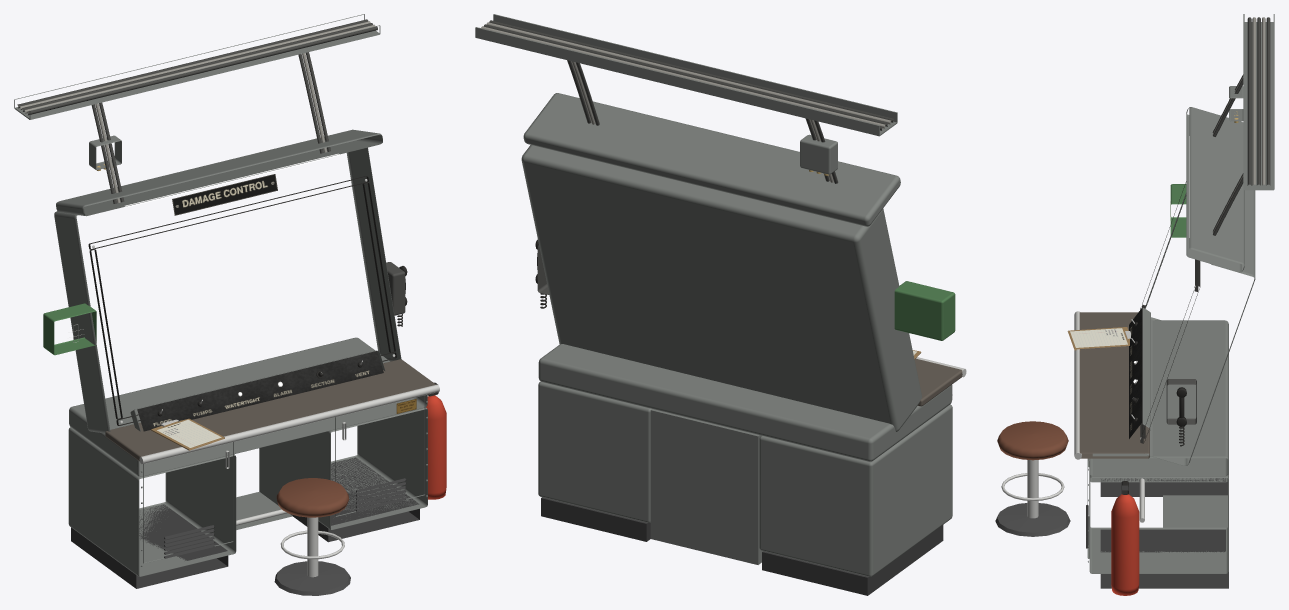
Rendered from damage_control.glb.
The picture shows the model from 3 angles, left to right: view 1: azimuth 30°, elevation 25°; view 2: azimuth 150°, elevation 25°; view 3: azimuth 270°, elevation 25°; orthographic projection. The views are drawn at different scales.
Visible parts, largest first — view 1: body; view 2: body; view 3: body.
Boxes of the visible parts, x1,y1,x2,y2 form: body: (14, 14, 446, 595); body: (475, 14, 966, 595); body: (995, 14, 1274, 595).
Bounding box in the file's own units: 2.21 × 2.48 × 1.48.
Materials: 11 (4 with a texture image).
